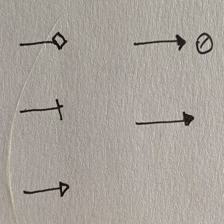control: (20, 32, 67, 50)
degradation: (134, 33, 213, 55)
inhibition: (20, 99, 63, 121)
stimulation: (23, 182, 70, 197)
